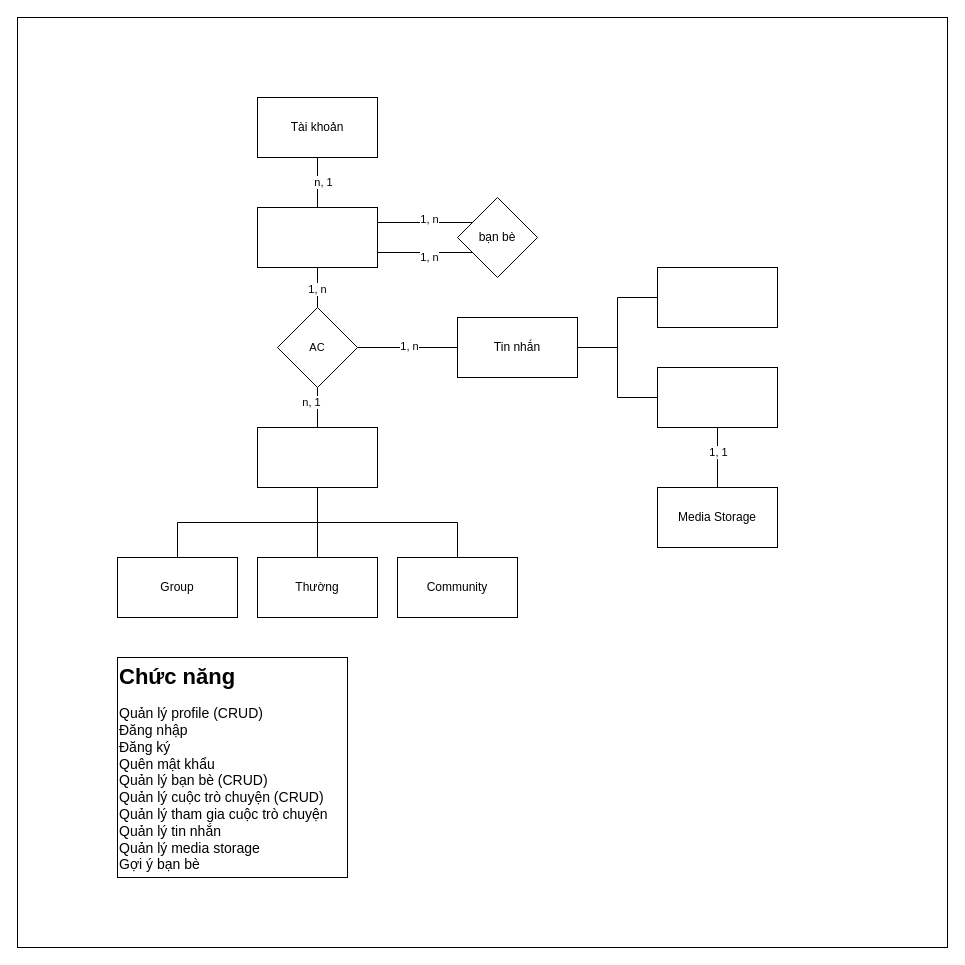
Image size: 965x965. Some labels were removed from this diagram. The shapes that lost their labels are listed below. From the top down, each one's box as (x1, y1, x2, y2) in pixels, then its label:
(256, 206, 378, 268): Profile
(656, 266, 778, 328): Text
(656, 366, 778, 428): Media
(256, 426, 378, 488): Cuộc trò chuyện
